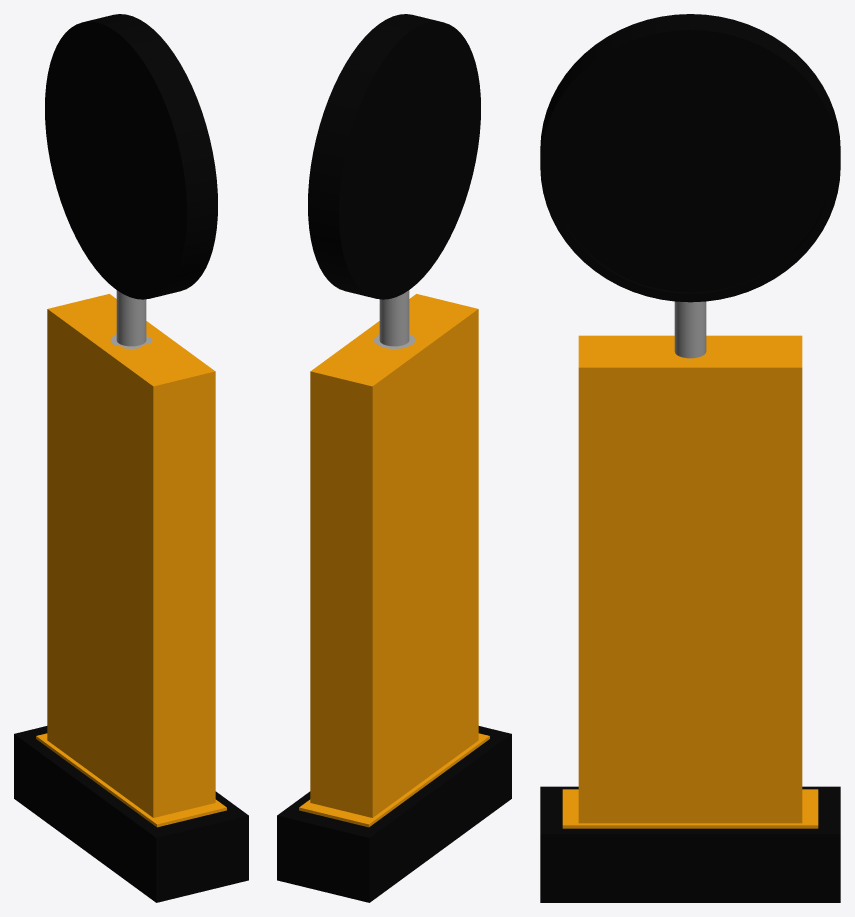
3 views of the same model, side by side, from view 1: azimuth 30°, elevation 25°; view 2: azimuth 150°, elevation 25°; view 3: azimuth 270°, elevation 25° (orthographic). The views are drawn at different scales.
Parts seen in each view (by area): view 1: pedestal_disc; view 2: pedestal_disc; view 3: pedestal_disc.
Boxes of the visible parts, left/top/right/bottom form: pedestal_disc: left=14, top=14, right=248, bottom=902; pedestal_disc: left=277, top=14, right=511, bottom=902; pedestal_disc: left=540, top=14, right=840, bottom=902.
Size of the model in its own units: 0.0358 by 0.3 by 0.0953.
